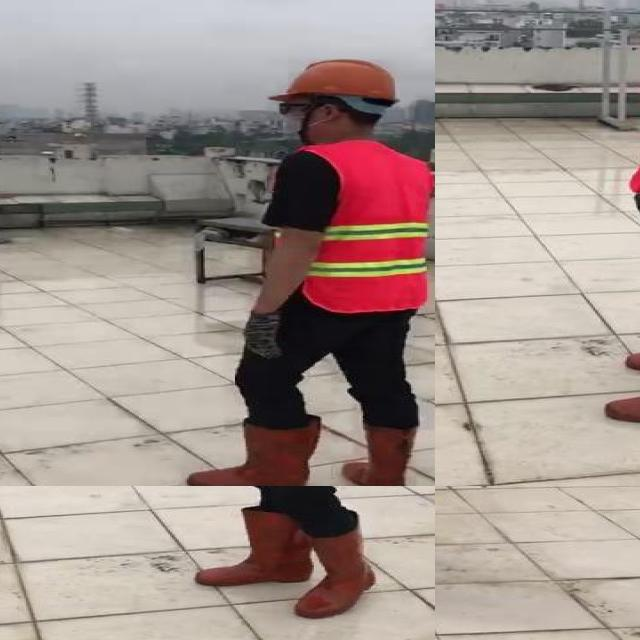boots: (195, 507, 312, 586), (294, 520, 380, 620), (192, 421, 322, 486), (342, 426, 420, 486), (606, 337, 640, 425)
face_mask: (268, 96, 319, 139)
hand_glove: (238, 313, 284, 361), (629, 192, 640, 220)
head_helmet: (264, 54, 400, 104)
person: (188, 41, 435, 486), (150, 486, 413, 620), (587, 0, 640, 437)
vest: (298, 142, 432, 312)
